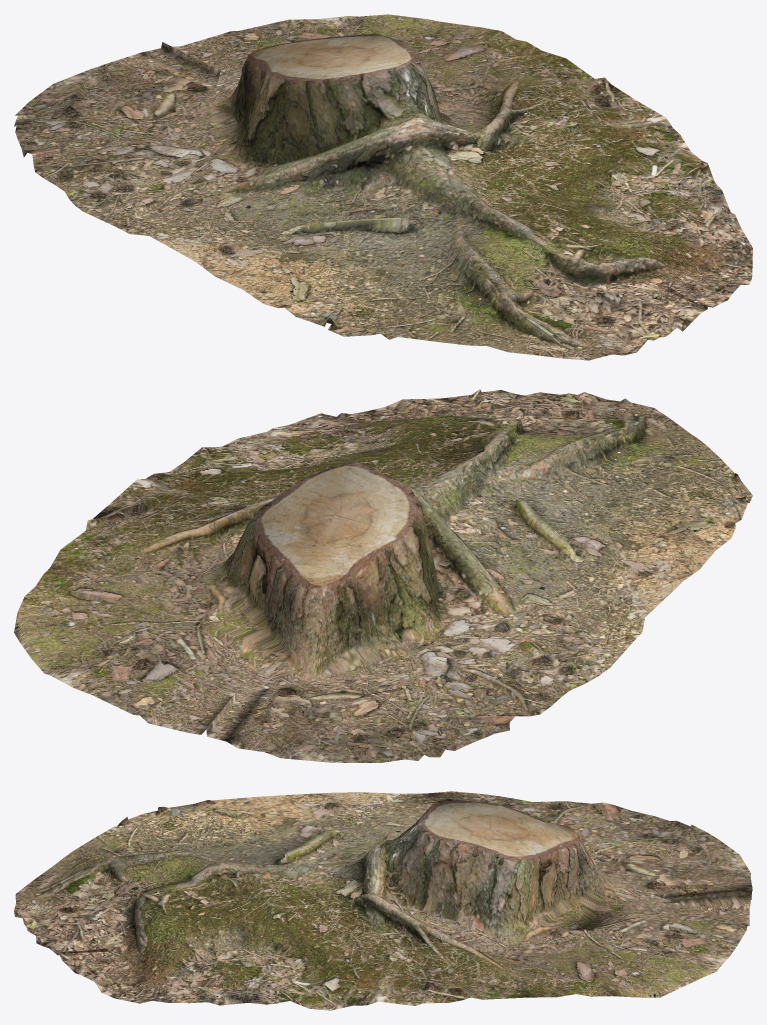
The picture shows the model from 3 angles, top to bottom: view 1: azimuth 30°, elevation 25°; view 2: azimuth 150°, elevation 25°; view 3: azimuth 270°, elevation 25°; orthographic projection. The views are drawn at different scales.
Parts seen in each view (by area): view 1: 3DTreeStump001-0; view 2: 3DTreeStump001-0; view 3: 3DTreeStump001-0.
Boxes of the visible parts, left/top/right/bottom form: 3DTreeStump001-0: left=14, top=14, right=752, bottom=360; 3DTreeStump001-0: left=14, top=389, right=752, bottom=762; 3DTreeStump001-0: left=14, top=791, right=752, bottom=1010.
Size of the model in its own units: 4.46 by 0.9999 by 6.42.
1 material, 1 textured.
